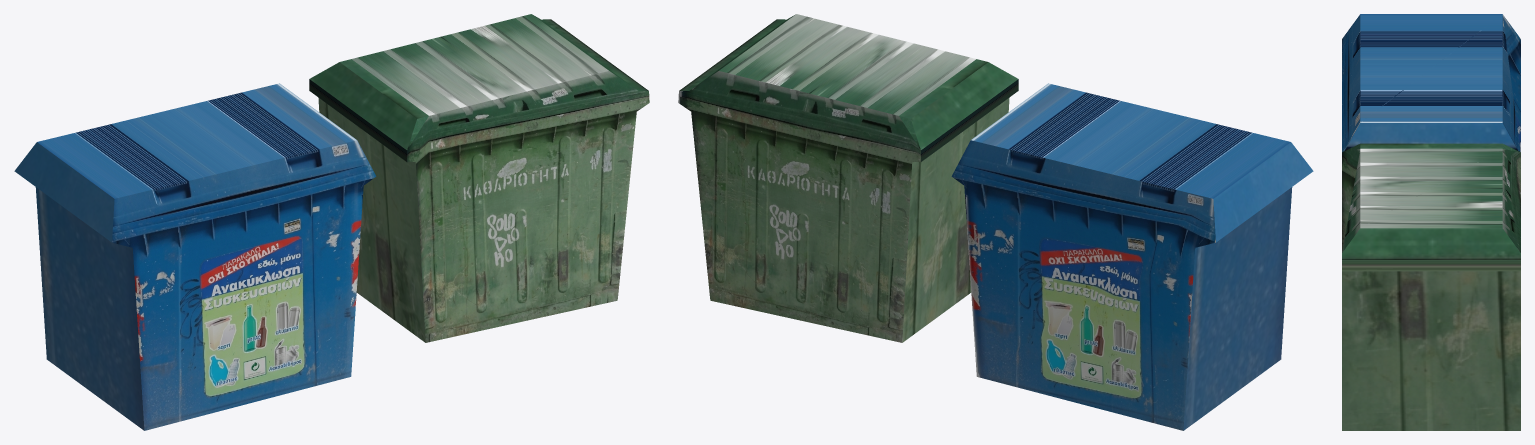
The model's file is dumpsters.fbx.
The picture shows the model from 3 angles, left to right: view 1: azimuth 30°, elevation 25°; view 2: azimuth 150°, elevation 25°; view 3: azimuth 270°, elevation 25°; orthographic projection. The views are drawn at different scales.
Parts seen in each view (by area): view 1: kados anakiklosis, kados; view 2: kados anakiklosis, kados; view 3: kados, kados anakiklosis.
Part boxes in pixels (left/top/right/bottom): kados anakiklosis: left=14, top=83, right=376, bottom=430; kados: left=309, top=14, right=649, bottom=342; kados anakiklosis: left=951, top=83, right=1313, bottom=430; kados: left=678, top=14, right=1018, bottom=342; kados: left=1342, top=143, right=1520, bottom=430; kados anakiklosis: left=1342, top=14, right=1520, bottom=151.
Size of the model in its own units: 122 by 51.32 by 38.33.
Materials: 1 (1 with a texture image).
